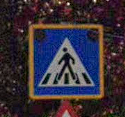trecere_pietoni: (26, 22, 106, 100)
